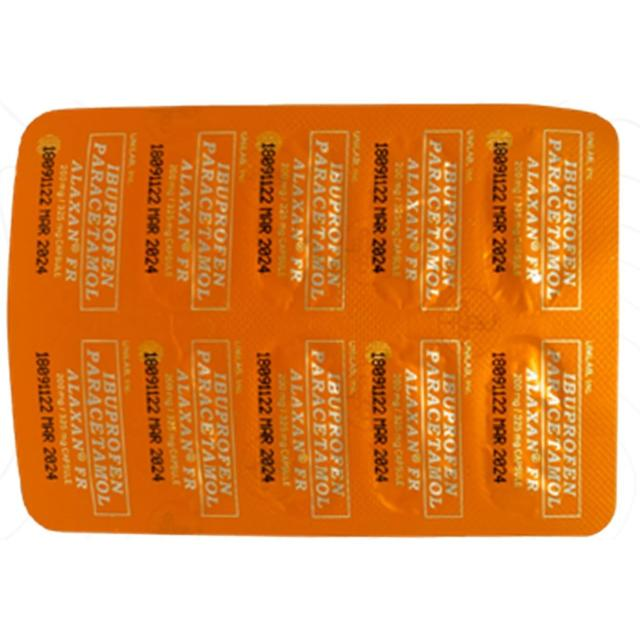blister: (1, 99, 623, 536)
